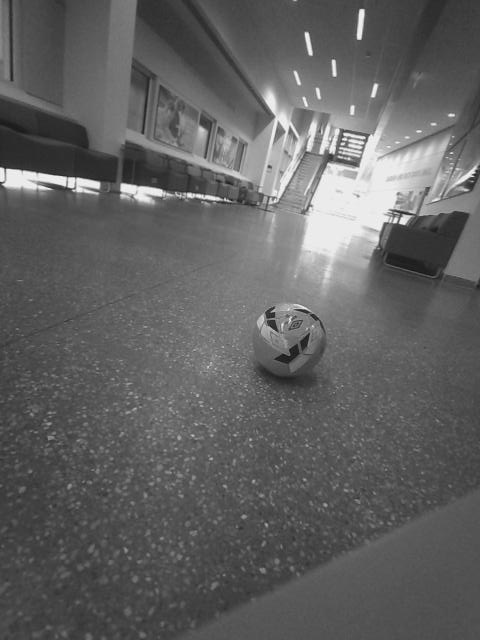ball: (346, 200, 377, 230)
